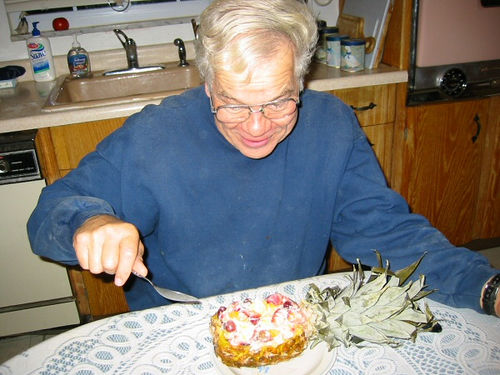pineapple: (205, 246, 443, 369)
